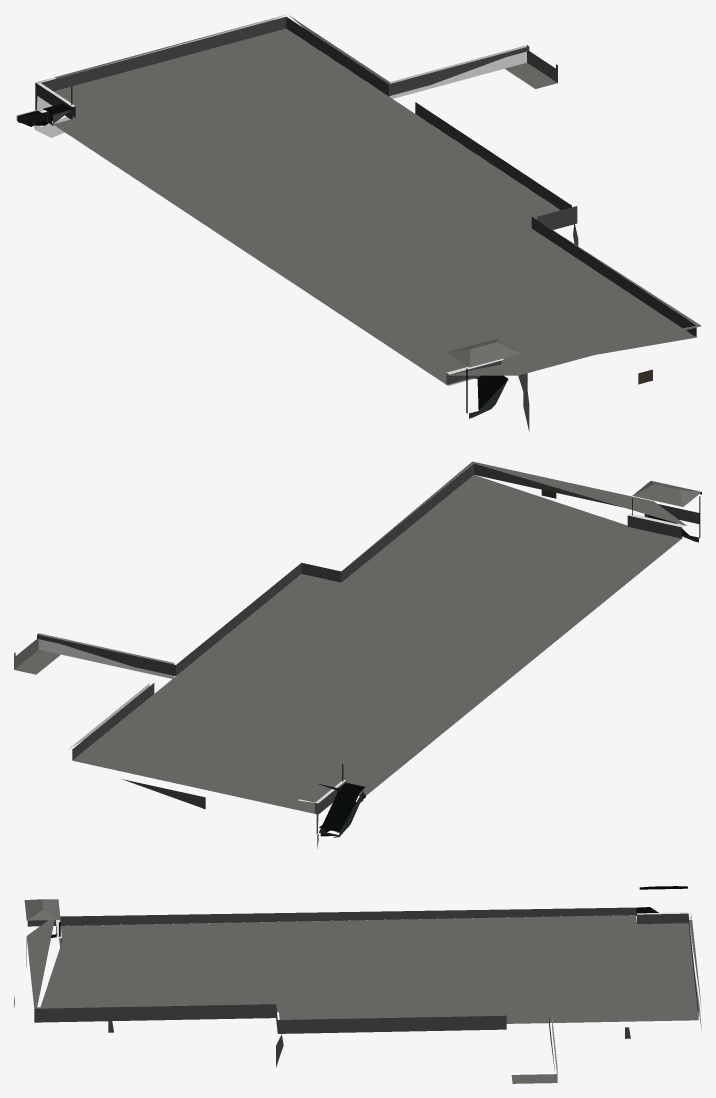
The model's file is parking-deck.glb.
The picture shows the model from 3 angles, top to bottom: view 1: azimuth 30°, elevation 25°; view 2: azimuth 150°, elevation 25°; view 3: azimuth 270°, elevation 25°; orthographic projection. The views are drawn at different scales.
Visible parts, largest first — view 1: LOD0; view 2: LOD0; view 3: LOD0.
Part boxes in pixels (<box>): LOD0: <box>16,15,701,431</box>; LOD0: <box>14,461,701,848</box>; LOD0: <box>14,886,701,1083</box>.
Size of what is drawn, in the model's own units: 59.06 by 11.58 by 103.
3 materials, 3 textured.
